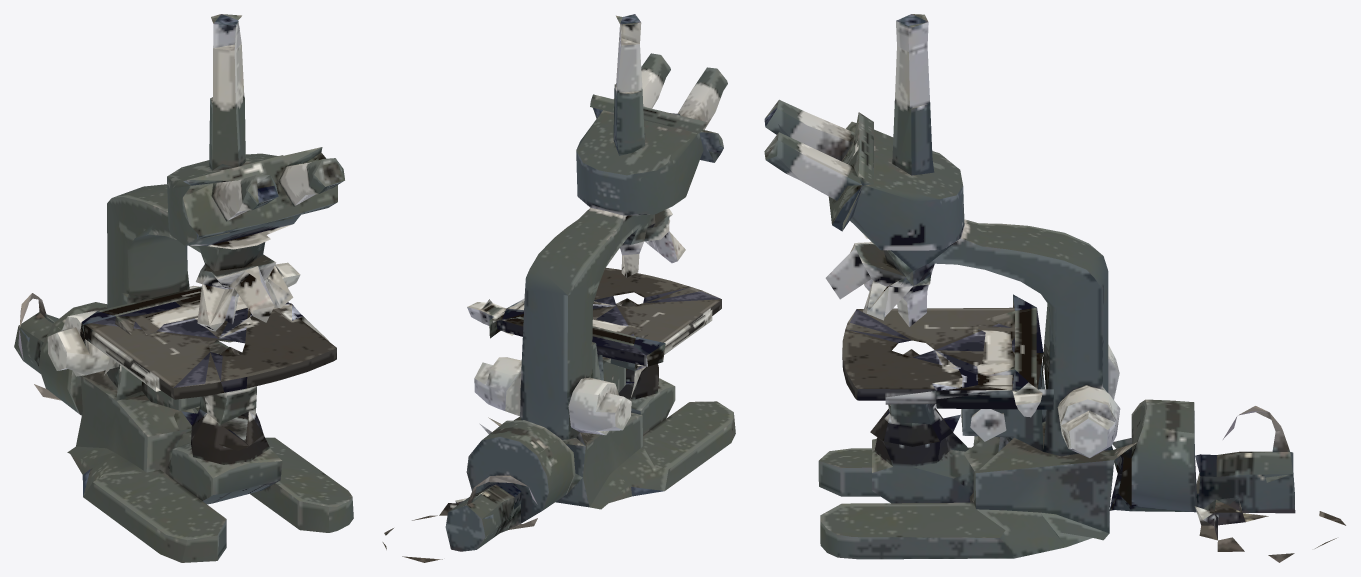
Rendered from industrial_microscope.glb.
3 renders of one model, left to right at view 1: azimuth 30°, elevation 25°; view 2: azimuth 150°, elevation 25°; view 3: azimuth 270°, elevation 25°, orthographic. The views are drawn at different scales.
Visible parts, largest first — view 1: mesh; view 2: mesh; view 3: mesh.
Boxes of the visible parts, bbox=[...] form: mesh: bbox=[14, 14, 353, 562]; mesh: bbox=[382, 14, 735, 562]; mesh: bbox=[764, 14, 1345, 562].
Size of the model in its own units: 0.2138 by 0.4617 by 0.4925.
Materials: 1 (1 with a texture image).
